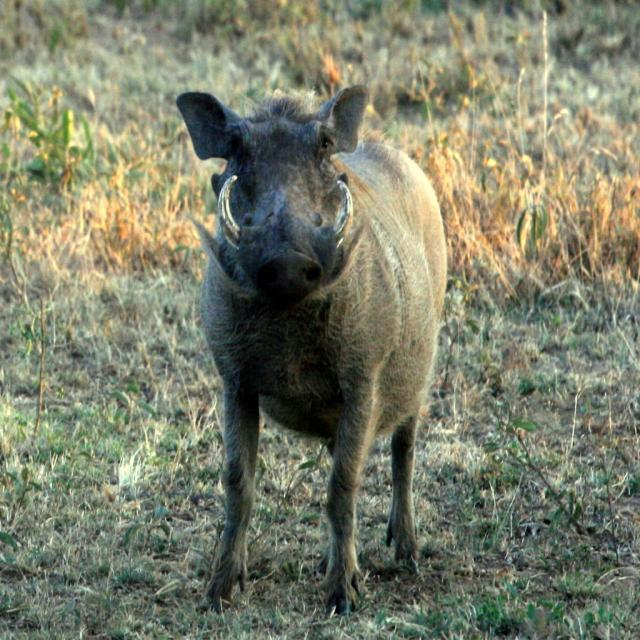Pig: (176, 80, 446, 618)
